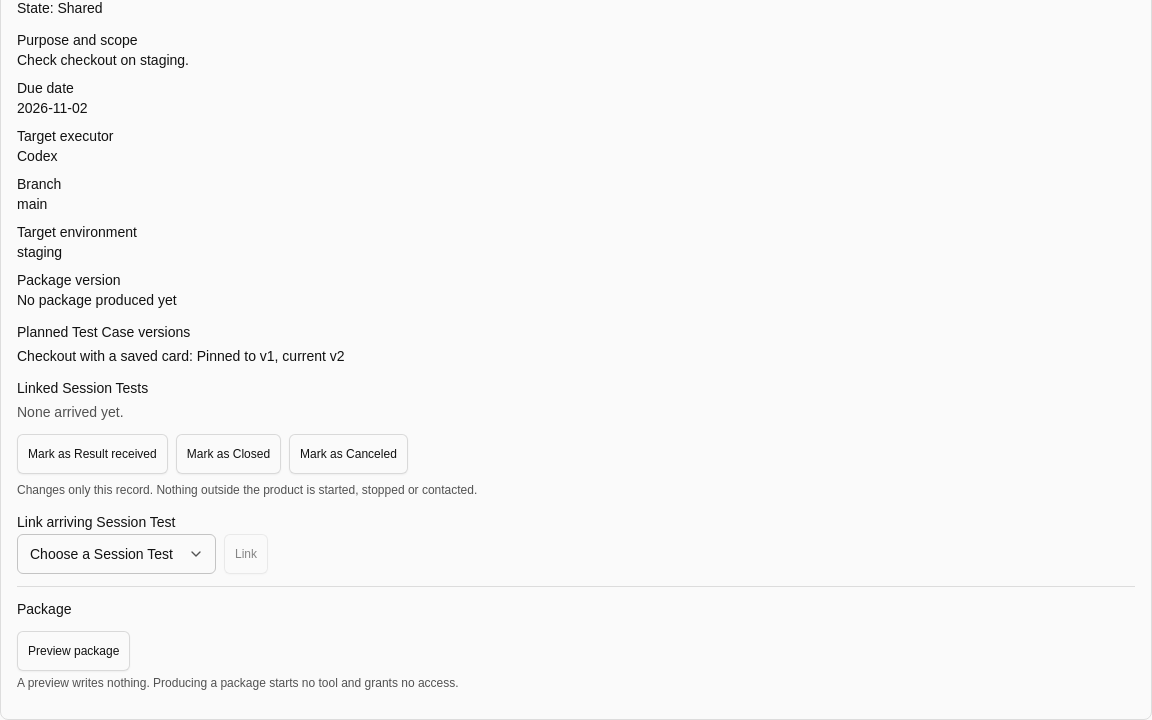
it: a blocked preview shows the reasons and no rendering or confirm
The image size is (1152, 720).
(page scrolled)
What coordinates should you click on to do the following:
click the button "Preview package"
I would click on:
 (74, 651)
Its box is [17, 631, 130, 671].
(page scrolled)
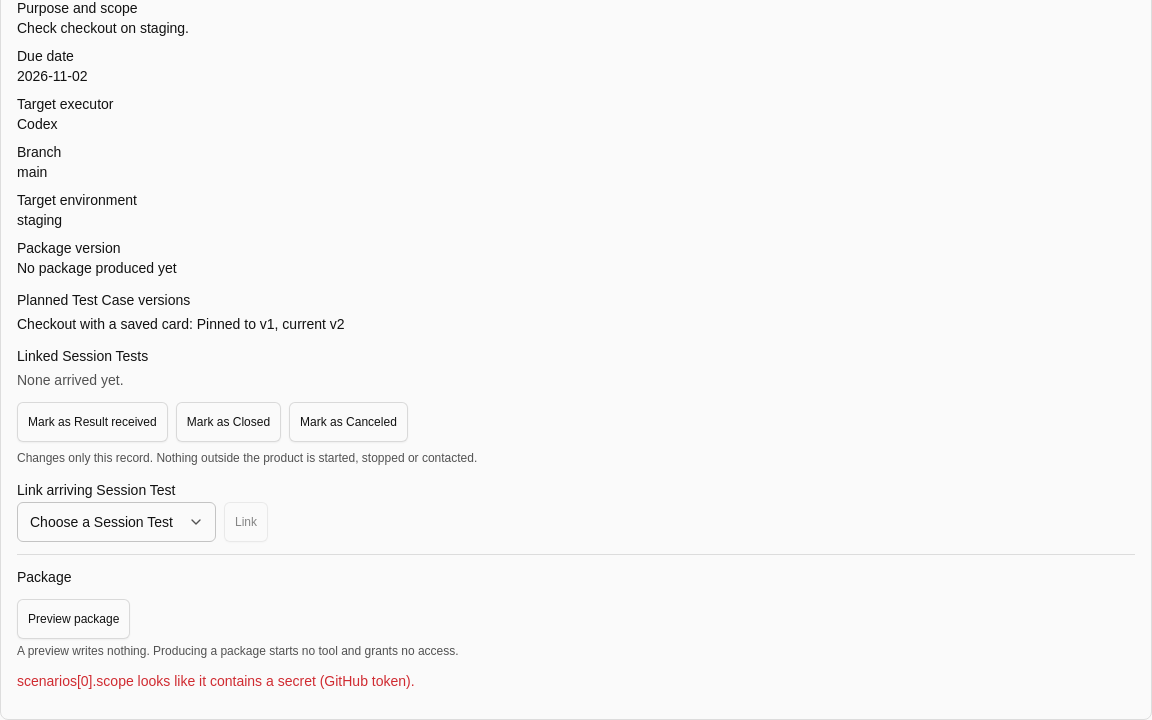
Expected: the message "scenarios[0].scope looks like it contains a secret (GitHub token)." is shown, [17, 673, 415, 689]
